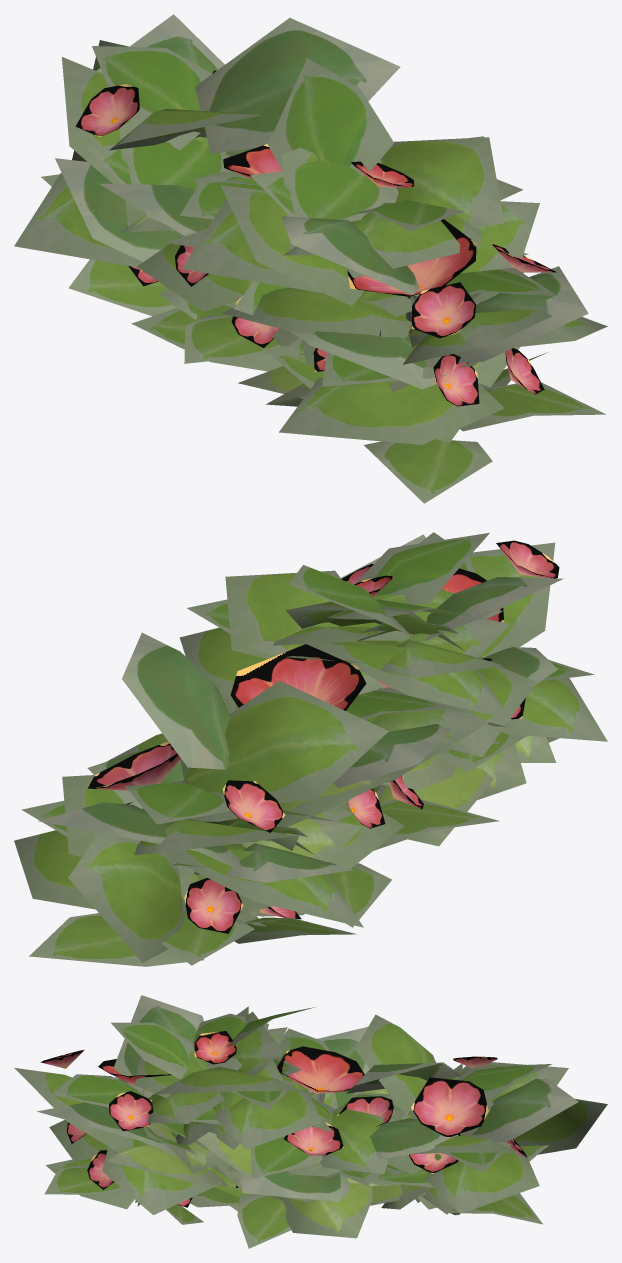
File: SM_Flower_02.fbx
The picture shows the model from 3 angles, top to bottom: view 1: azimuth 30°, elevation 25°; view 2: azimuth 150°, elevation 25°; view 3: azimuth 270°, elevation 25°; orthographic projection. The views are drawn at different scales.
Parts seen in each view (by area): view 1: SM_Flower_02; view 2: SM_Flower_02; view 3: SM_Flower_02.
Boxes of the visible parts, <box> form: SM_Flower_02: <box>14,14,607,503</box>; SM_Flower_02: <box>14,532,607,966</box>; SM_Flower_02: <box>14,995,607,1248</box>.
Bounding box in the file's own units: 18.71 × 39.29 × 14.93.
1 material, 1 textured.
